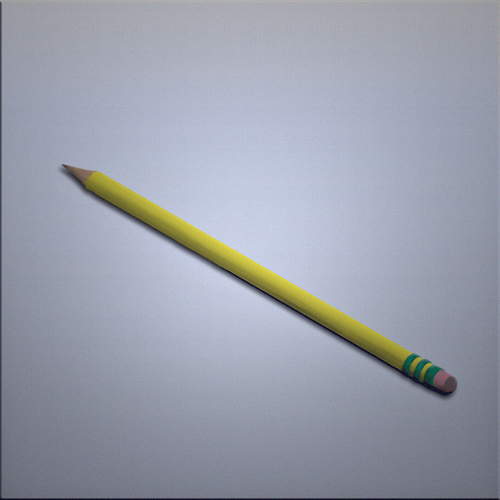pen_tip: (52, 156, 115, 202)
